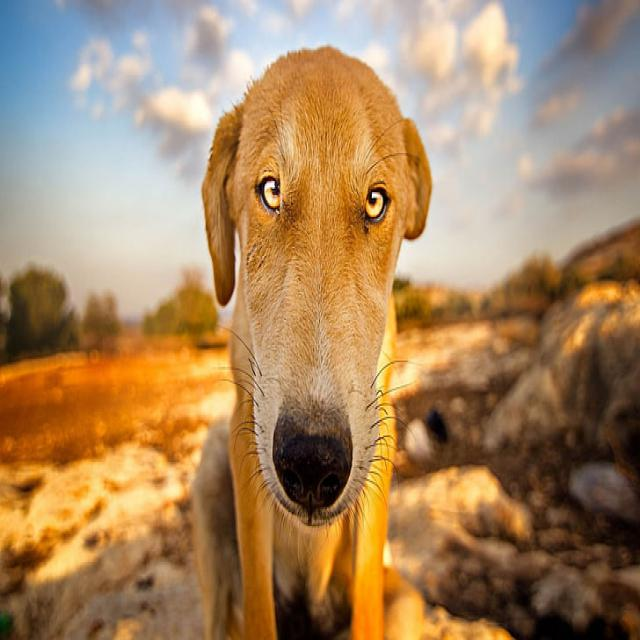eye: (361, 182, 392, 228), (255, 170, 285, 217)
